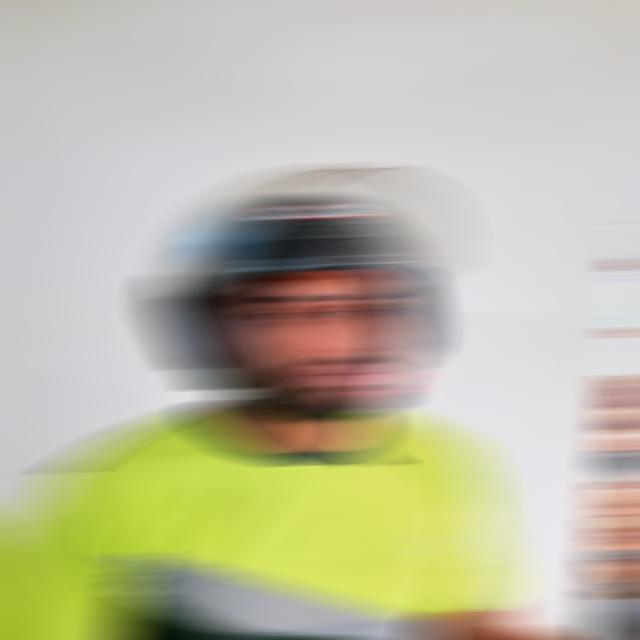With Helmet: (148, 161, 461, 391)
